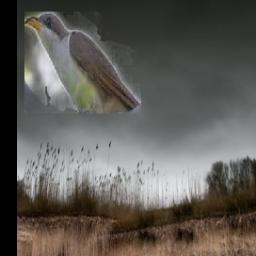Cuckoo: (24, 12, 141, 114)
